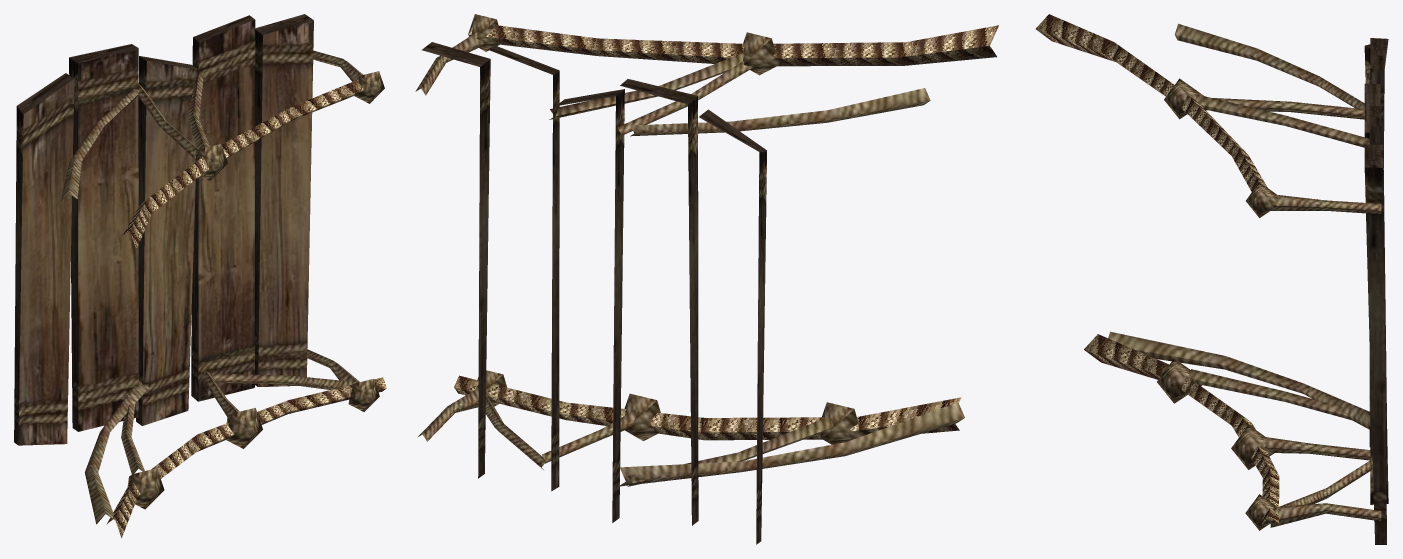
The picture shows the model from 3 angles, left to right: view 1: azimuth 30°, elevation 25°; view 2: azimuth 150°, elevation 25°; view 3: azimuth 270°, elevation 25°; orthographic projection. The views are drawn at different scales.
Parts seen in each view (by area): view 1: model_Object47; view 2: model_Object47; view 3: model_Object47.
Boxes of the visible parts, x1=… form: model_Object47: x1=14, y1=14, x2=386, y2=537; model_Object47: x1=415, y1=14, x2=998, y2=544; model_Object47: x1=1036, y1=14, x2=1388, y2=544.
Bounding box in the file's own units: 6.53 × 6.51 × 5.32.
Materials: 2 (2 with a texture image).
